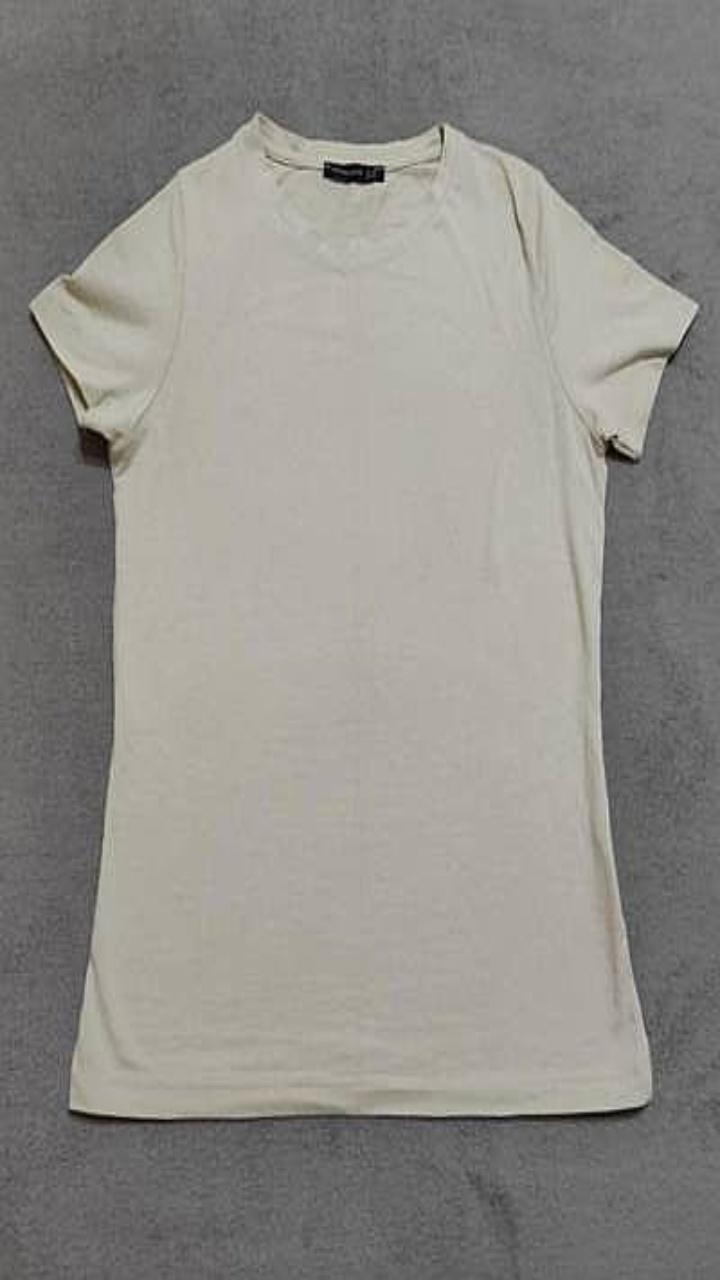T-Shirt: (30, 112, 697, 1117)
